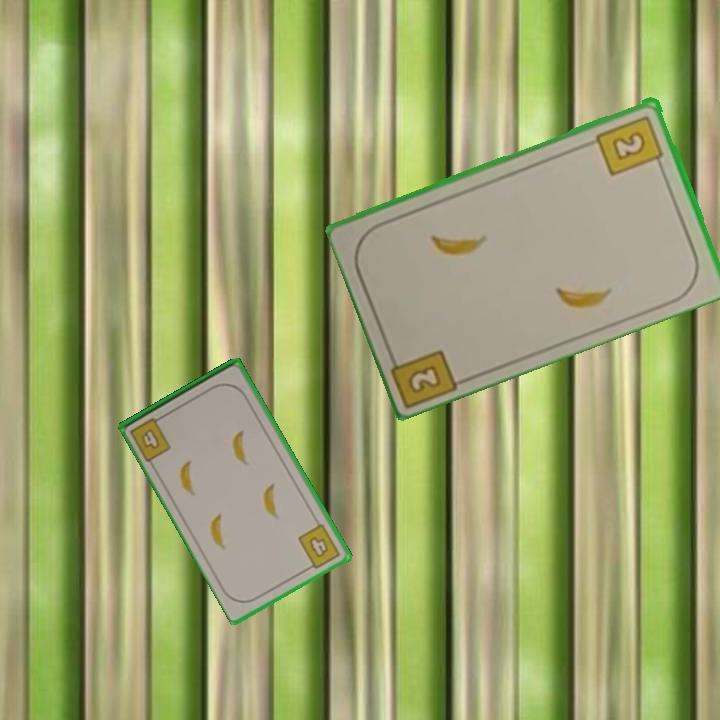2b: (593, 111, 666, 179), (384, 345, 462, 408)
4b: (294, 520, 343, 573), (126, 412, 174, 464)
